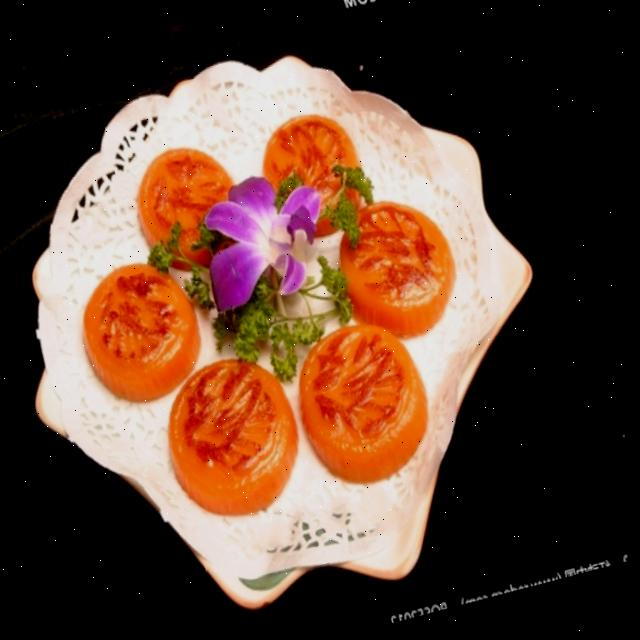炸货点心: (0, 7, 579, 629)
蛋糕甜品: (0, 7, 579, 629)
